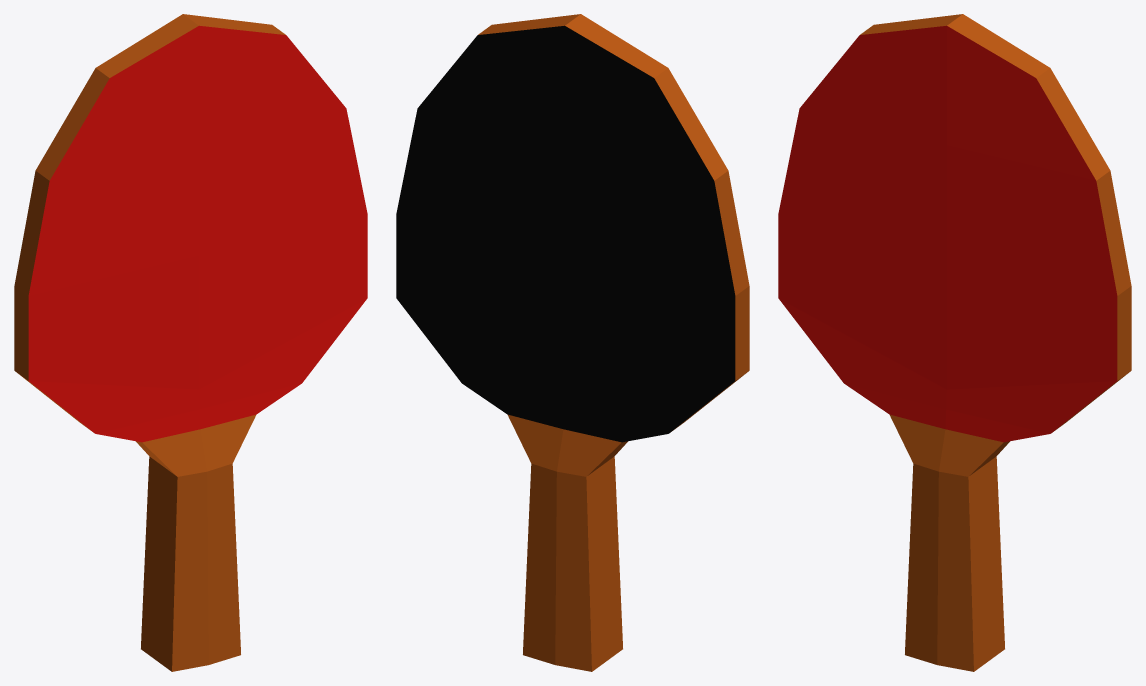
The model's file is Table_tennis_paddle_01.obj.
3 renders of one model, left to right at view 1: azimuth 30°, elevation 25°; view 2: azimuth 150°, elevation 25°; view 3: azimuth 330°, elevation 25°, orthographic.
Parts seen in each view (by area): view 1: Table_Tennis_Paddle_Cube.033; view 2: Table_Tennis_Paddle_Cube.033; view 3: Table_Tennis_Paddle_Cube.033.
Part boxes in pixels (x1,y1,x2,y2): Table_Tennis_Paddle_Cube.033: [14, 14, 367, 671]; Table_Tennis_Paddle_Cube.033: [396, 14, 749, 671]; Table_Tennis_Paddle_Cube.033: [778, 14, 1131, 671].
Size of the model in its own units: 2.03 by 3.61 by 0.3676.
